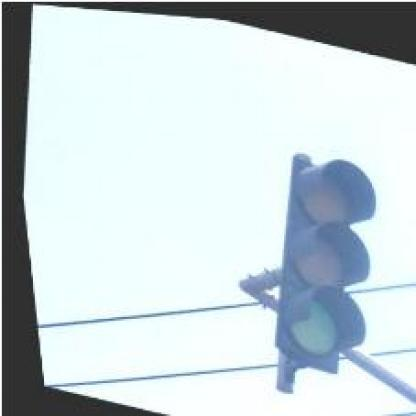green: (247, 138, 394, 376)
